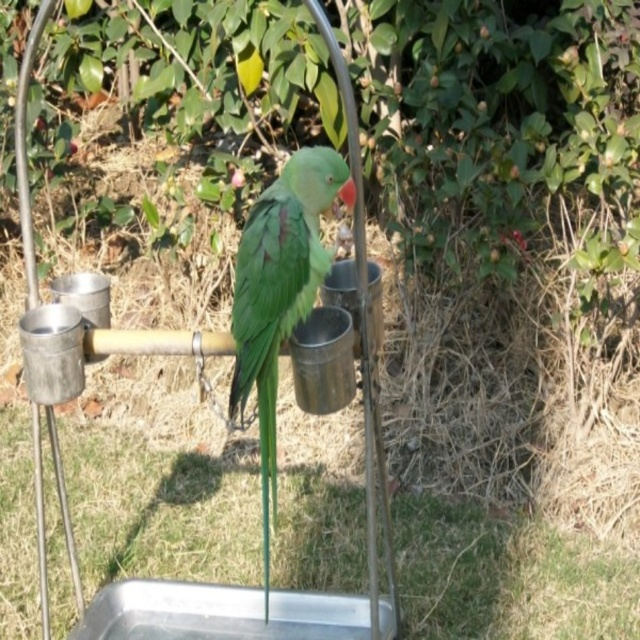Parrot: (233, 139, 358, 424)
